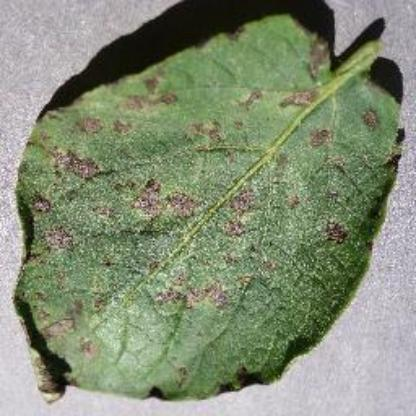Early-Blight: (12, 13, 414, 406)
